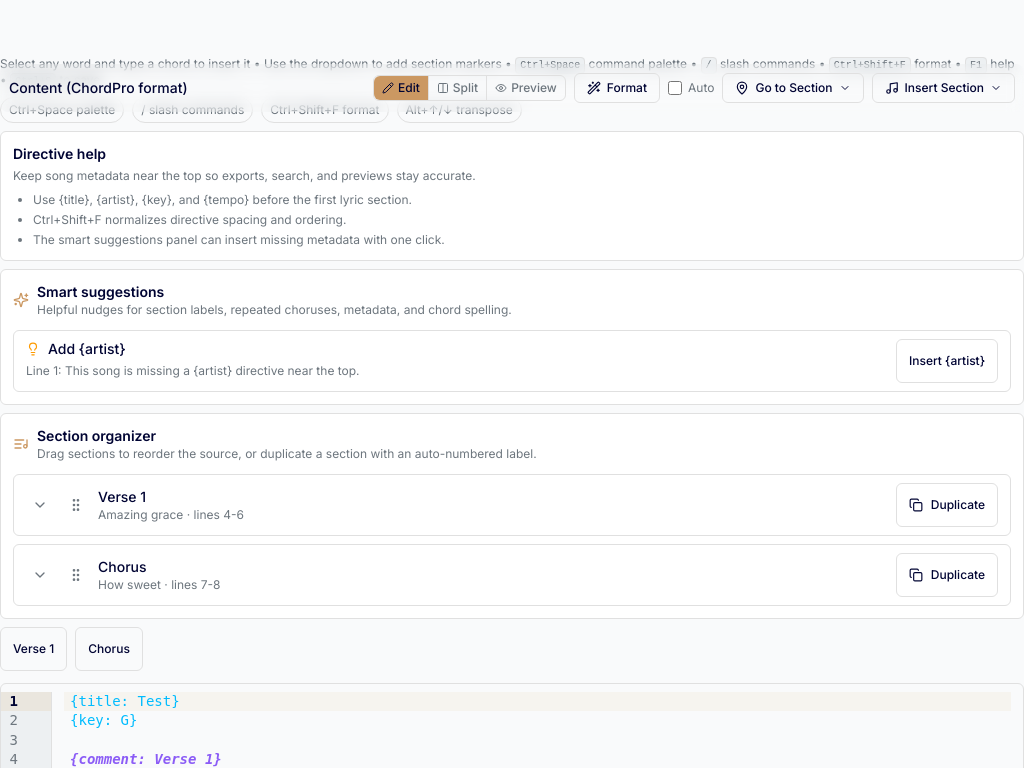
ChordProEditor — Phase 2 features › section navigation › opens section navigation dropdown
Click the button with test id "section-nav-btn". click: (793, 88)
box: [722,73,864,103]
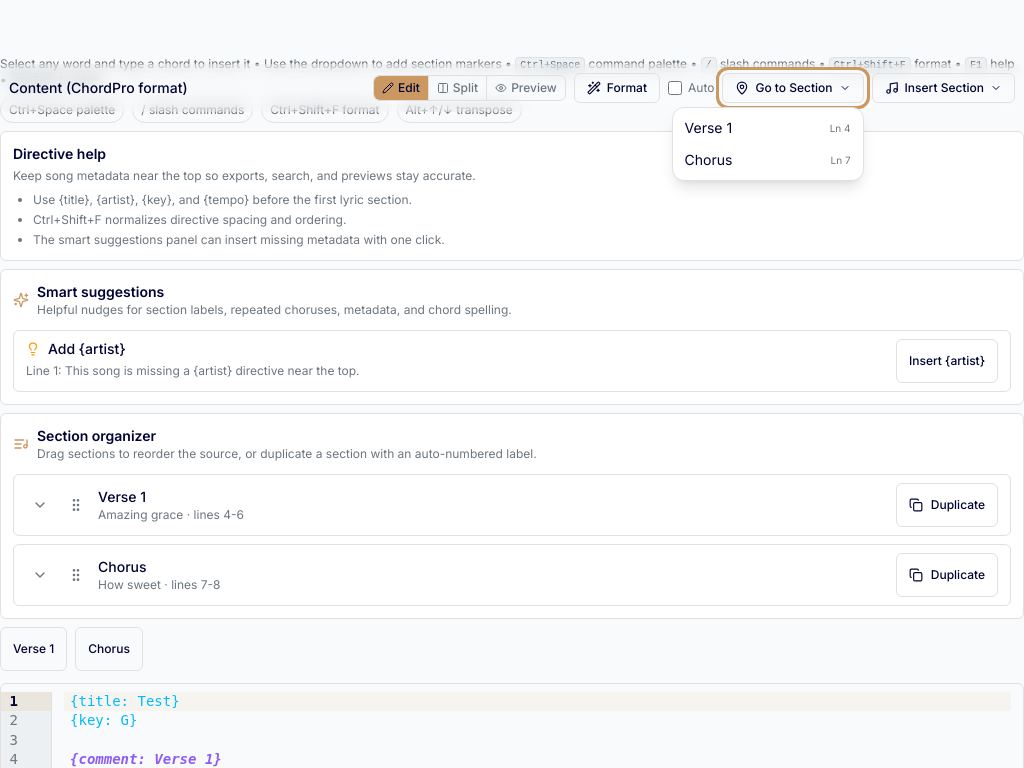
Check: the dialog with test id "section-nav-dropdown" is shown, box [672,107,864,181]
